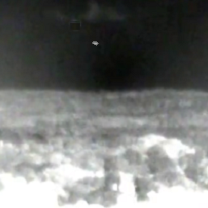Target: (92, 42, 99, 46)
